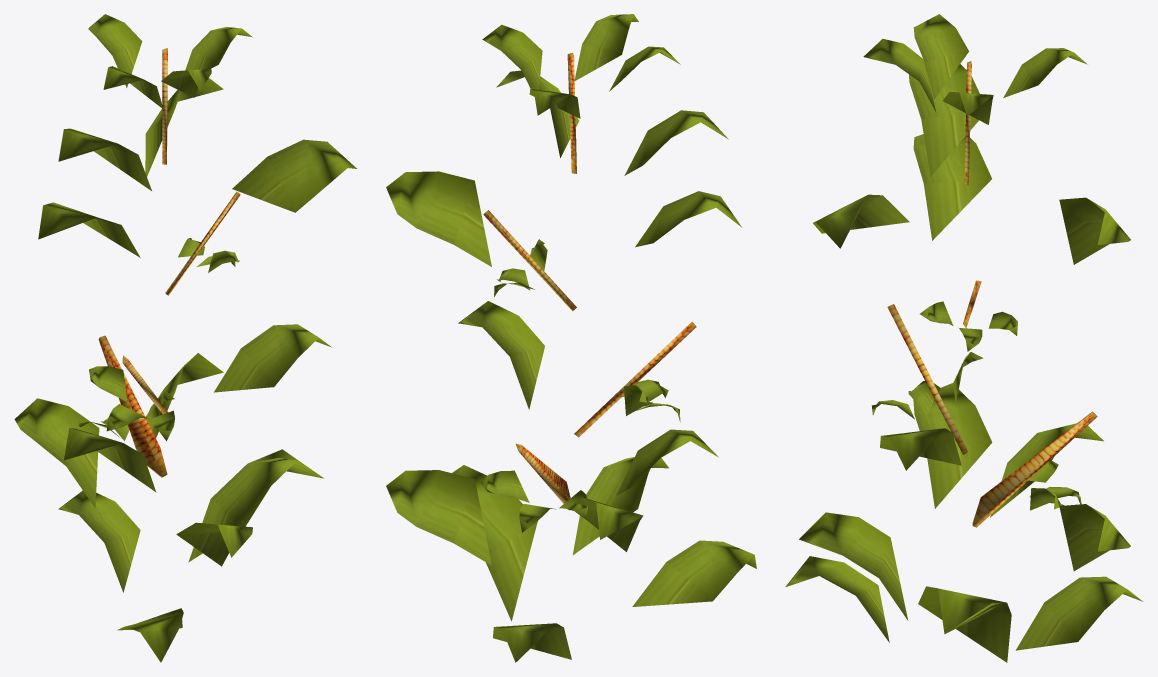
File: corn.lod0.glb
3 views of the same model, side by side, from view 1: azimuth 30°, elevation 25°; view 2: azimuth 150°, elevation 25°; view 3: azimuth 270°, elevation 25° (orthographic). The views are drawn at different scales.
Visible parts, largest first — view 1: Circle_020_corn_plant__corn_texture_png_0, Circle_020_corn_plant_001__corn_texture_png_001_0; view 2: Circle_020_corn_plant__corn_texture_png_0, Circle_020_corn_plant_001__corn_texture_png_001_0; view 3: Circle_020_corn_plant__corn_texture_png_0, Circle_020_corn_plant_001__corn_texture_png_001_0.
Boxes of the visible parts, x1,y1,x2,y2 form: Circle_020_corn_plant__corn_texture_png_0: (14,14,356,662); Circle_020_corn_plant_001__corn_texture_png_001_0: (145,78,223,437); Circle_020_corn_plant__corn_texture_png_0: (452,14,756,662); Circle_020_corn_plant_001__corn_texture_png_001_0: (386,171,491,565); Circle_020_corn_plant__corn_texture_png_0: (785,14,1143,662); Circle_020_corn_plant_001__corn_texture_png_001_0: (1059,197,1130,570).
Bounding box in the file's own units: 1.01 × 1.87 × 0.9934.
Materials: 2 (2 with a texture image).
